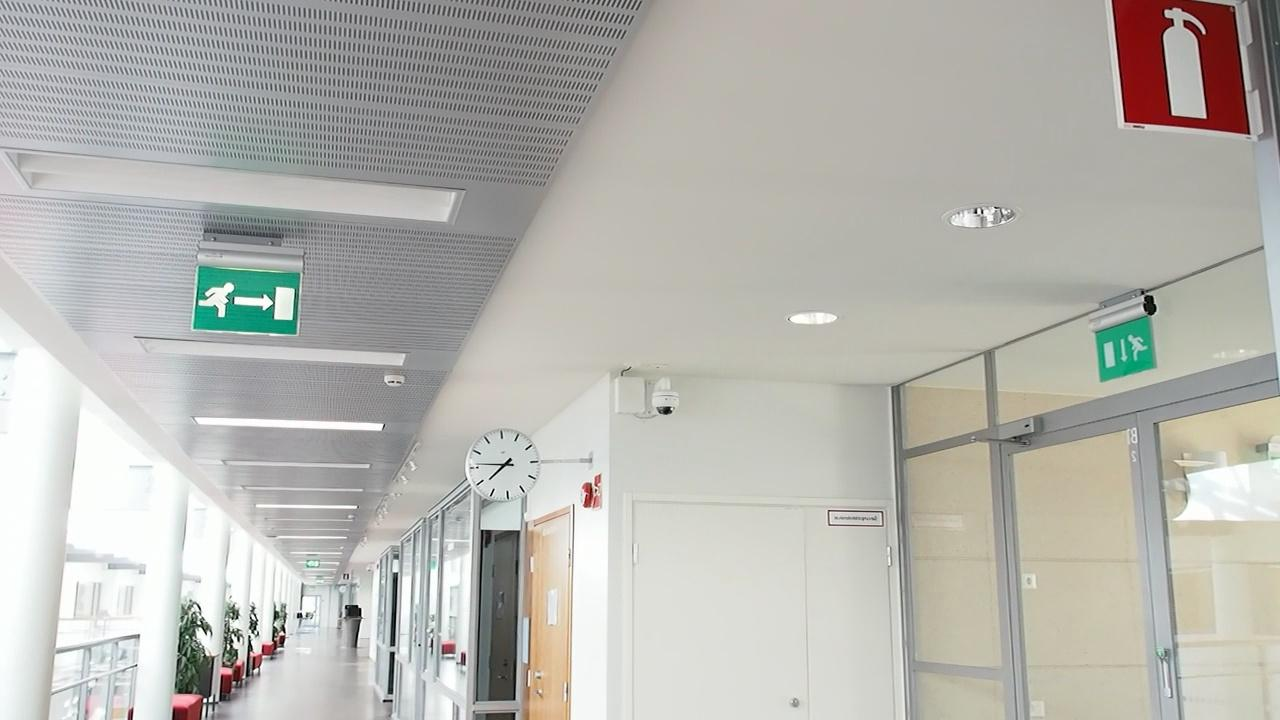clock: (461, 430, 540, 508)
exit: (183, 263, 299, 340), (1093, 317, 1159, 385)
fireextinguisher: (1123, 8, 1247, 129)
